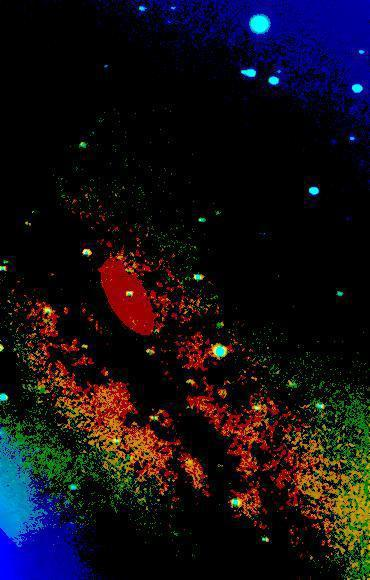star: (262, 257, 292, 287)
